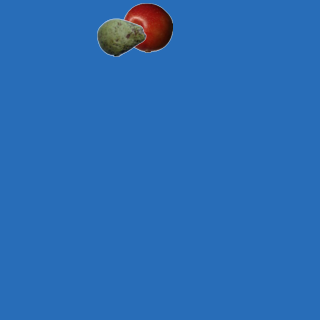Apple Braeburn: (122, 2, 172, 52)
Pear Stone: (96, 12, 146, 62)
